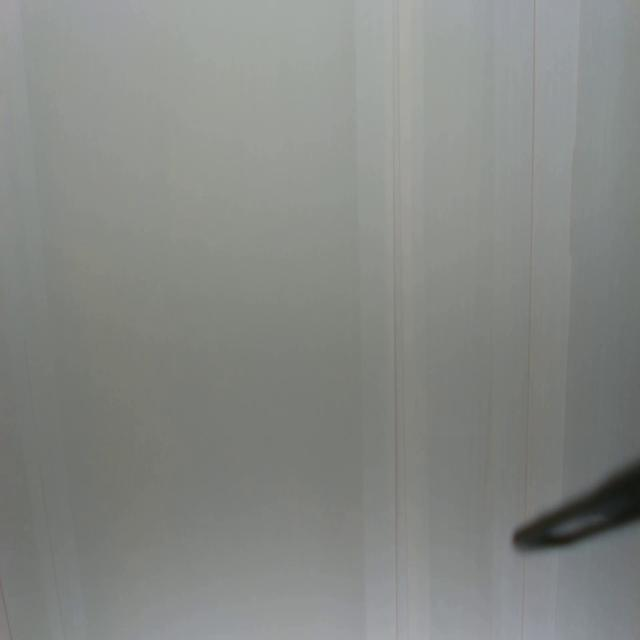crease: (24, 348, 66, 639), (399, 0, 411, 639), (524, 0, 538, 517), (390, 0, 399, 640), (0, 575, 14, 640), (520, 558, 528, 640)
